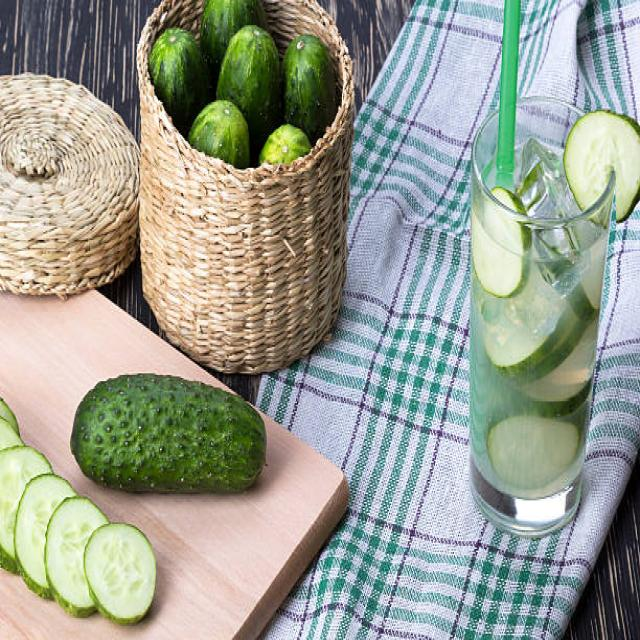cucumber: (70, 373, 267, 493)
